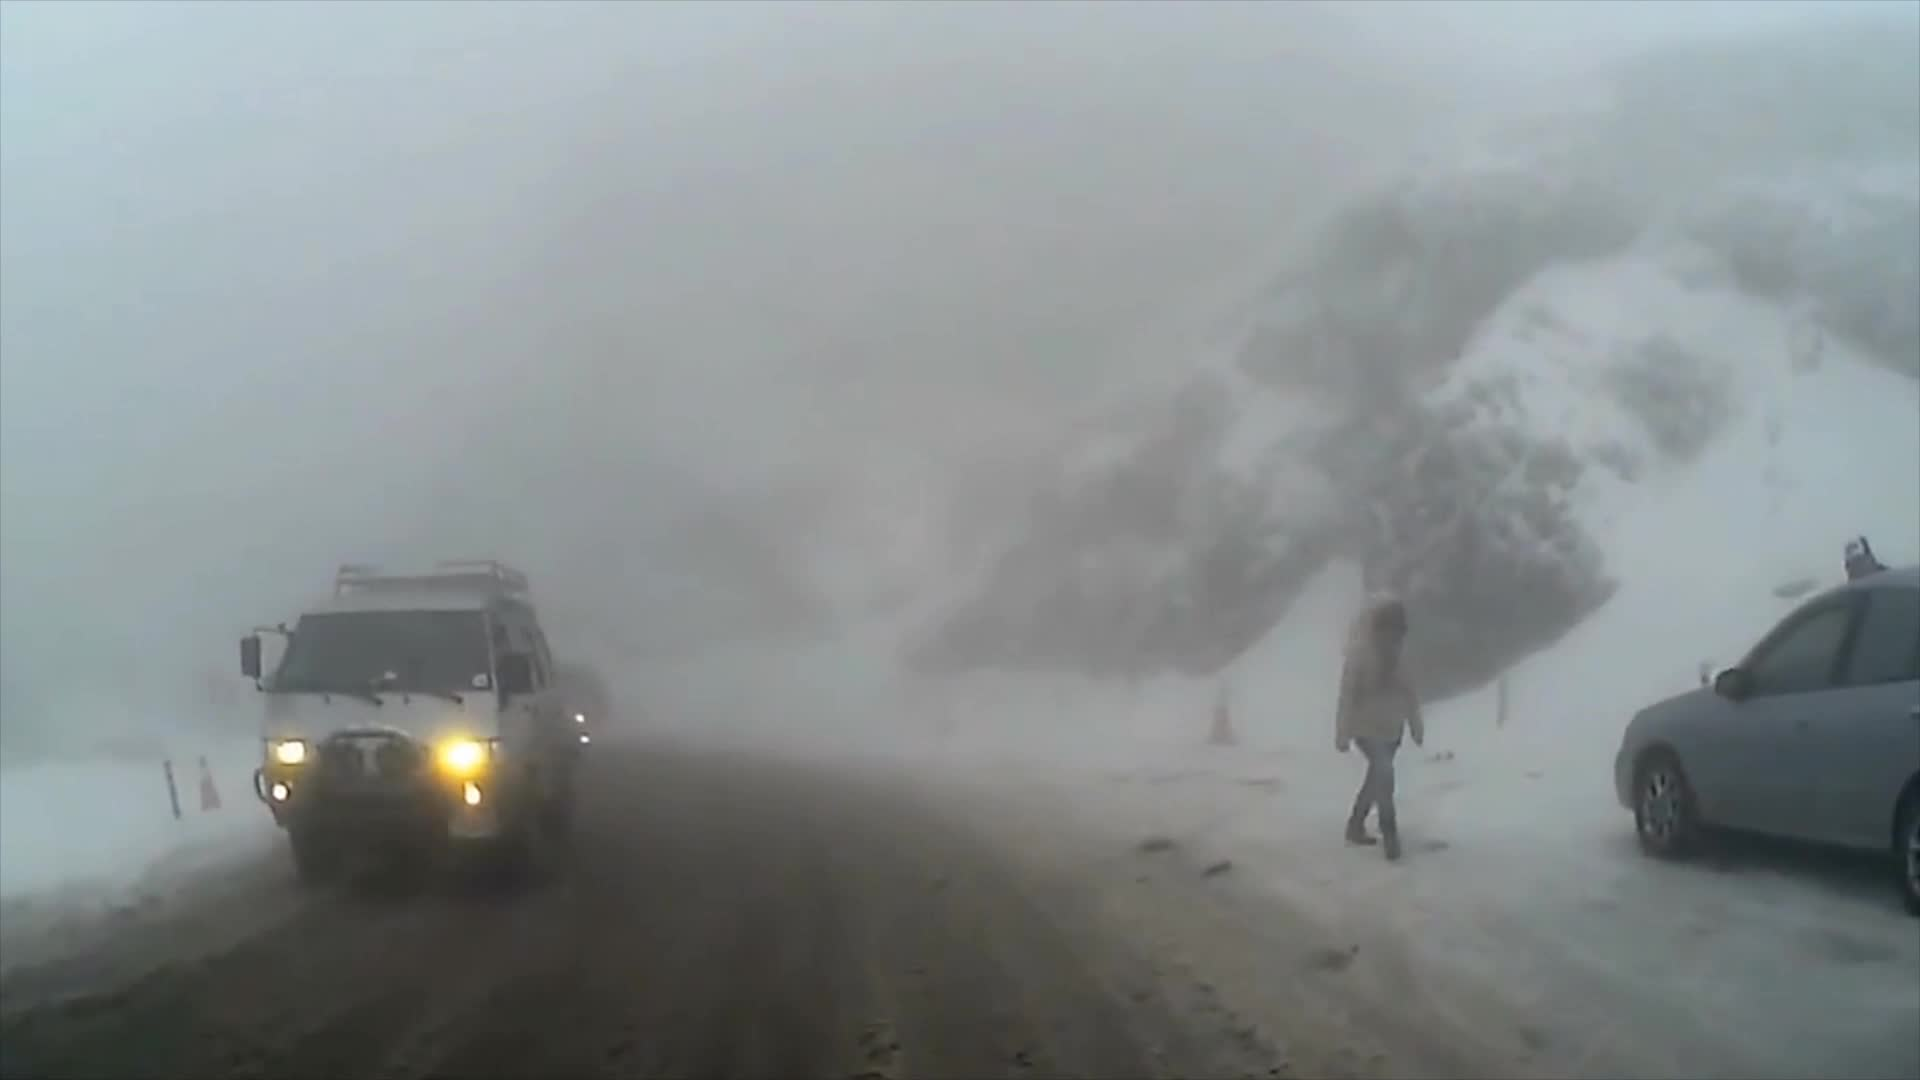pedestrian: (1331, 578, 1425, 863)
vehicle: (233, 556, 575, 895), (1612, 565, 1920, 919)
